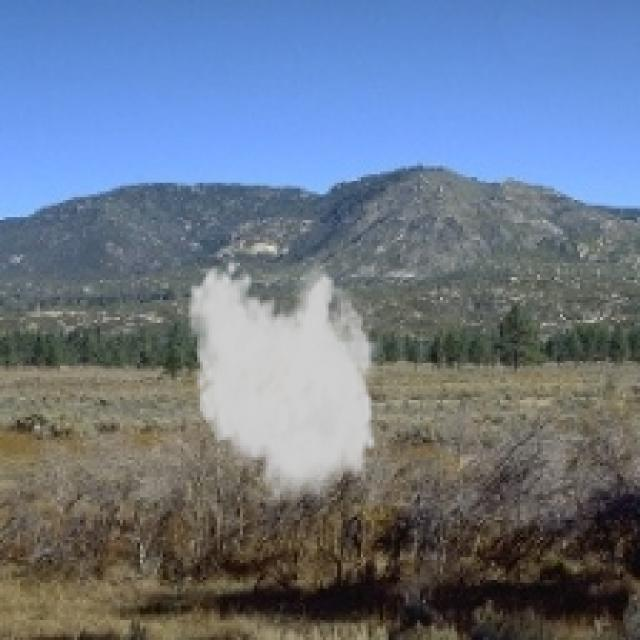smoke: (185, 257, 388, 512)
